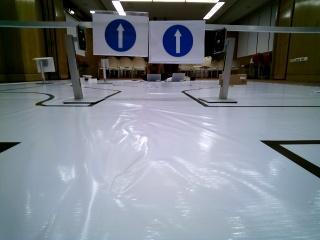straight: (149, 20, 206, 64), (93, 11, 148, 56)
